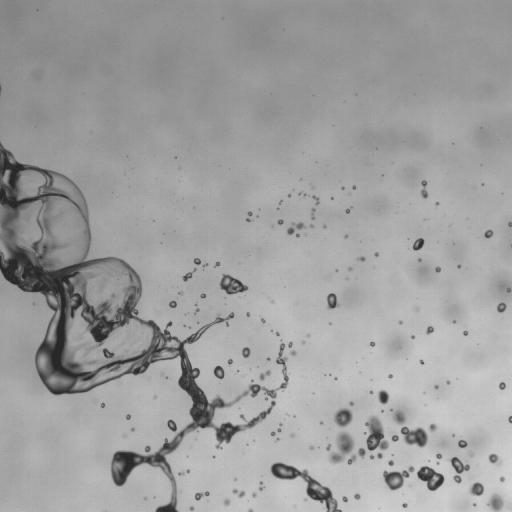droplet: (328, 431, 365, 464), (383, 466, 414, 490), (416, 466, 444, 491), (219, 274, 248, 294), (449, 457, 469, 483), (334, 408, 352, 427), (487, 494, 503, 511), (327, 293, 339, 309), (469, 482, 483, 495), (213, 365, 224, 379), (378, 390, 389, 404), (412, 238, 424, 250), (488, 454, 501, 464), (259, 370, 270, 380), (232, 489, 245, 497), (497, 302, 506, 312), (484, 229, 493, 238), (242, 347, 250, 357), (458, 440, 467, 448), (312, 196, 319, 204), (426, 326, 433, 334), (429, 423, 436, 431), (391, 433, 398, 441), (169, 301, 176, 307), (499, 382, 505, 389), (224, 498, 230, 505), (357, 256, 365, 261), (277, 219, 283, 225), (259, 482, 263, 490), (214, 261, 220, 266), (435, 267, 441, 272), (290, 350, 296, 355), (388, 460, 393, 466), (499, 476, 504, 482), (354, 493, 359, 499), (342, 496, 347, 502), (326, 444, 330, 451), (194, 308, 199, 313), (463, 330, 468, 335), (436, 454, 441, 459), (189, 506, 194, 511), (508, 416, 511, 423), (346, 208, 350, 213), (506, 288, 511, 292), (201, 293, 205, 298), (288, 342, 292, 347), (228, 359, 232, 364), (419, 360, 424, 364), (100, 403, 105, 407), (126, 414, 130, 419), (270, 432, 275, 436), (252, 492, 256, 497), (402, 503, 407, 507), (374, 252, 378, 256), (179, 291, 183, 295), (370, 342, 374, 346), (388, 374, 392, 378), (349, 401, 353, 405), (508, 222, 511, 226), (399, 320, 402, 324), (434, 385, 438, 388), (277, 428, 280, 432), (309, 446, 313, 449), (370, 455, 373, 459), (248, 509, 253, 511), (435, 202, 438, 205), (296, 234, 299, 237), (457, 264, 460, 267), (348, 267, 351, 270), (246, 312, 249, 315), (261, 319, 264, 322), (275, 332, 278, 335), (306, 334, 309, 337), (411, 335, 414, 338), (267, 357, 270, 360), (446, 381, 449, 384), (131, 428, 134, 431), (275, 438, 278, 441), (470, 453, 473, 456), (436, 461, 439, 464), (509, 506, 511, 510), (352, 186, 355, 188), (310, 224, 312, 227), (323, 225, 326, 227), (344, 235, 347, 237), (418, 259, 421, 261), (302, 340, 304, 343), (369, 391, 372, 393), (288, 194, 290, 196), (271, 300, 273, 302), (409, 484, 411, 486), (304, 498, 306, 500), (473, 503, 475, 505)
ligament: (0, 143, 288, 511), (271, 462, 341, 511), (393, 410, 427, 447), (365, 416, 388, 458), (286, 222, 304, 234), (182, 269, 195, 281), (194, 491, 209, 500), (193, 258, 207, 266), (421, 180, 427, 198), (179, 469, 190, 475), (246, 212, 252, 221), (311, 208, 315, 219), (301, 192, 306, 195), (0, 85, 2, 92)
